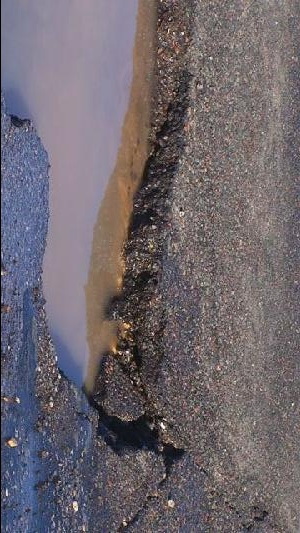pothole: (1, 0, 201, 468)
